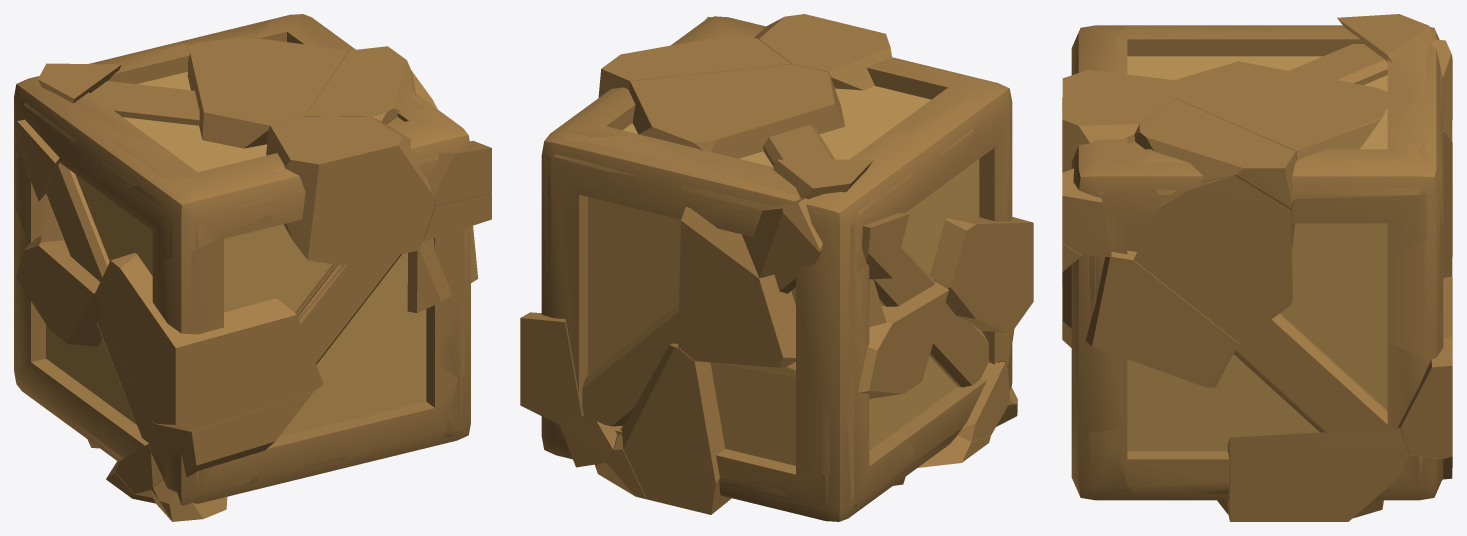
File: CrateMesh.glb
The picture shows the model from 3 angles, left to right: view 1: azimuth 30°, elevation 25°; view 2: azimuth 150°, elevation 25°; view 3: azimuth 270°, elevation 25°; orthographic projection. The views are drawn at different scales.
Parts seen in each view (by area): view 1: origin, Cube_Crate_cell.009, Cube_Crate_cell.069, Cube_Crate_cell.032, Cube_Crate_cell.025, Cube_Crate_cell.068, Cube_Crate_cell.061, Cube_Crate_cell.034, Cube_Crate_cell.085, Cube_Crate_cell.060, Cube_Crate_cell, Cube_Crate_cell.062 (+16 smaller); view 2: origin, Cube_Crate_cell.009, Cube_Crate_cell.034, Cube_Crate_cell.025, Cube_Crate_cell.005, Cube_Crate_cell.086, Cube_Crate_cell.070, Cube_Crate_cell.032, Cube_Crate_cell.041, Cube_Crate_cell.085, Cube_Crate_cell.069, Cube_Crate_cell.060 (+22 smaller); view 3: origin, Cube_Crate_cell.009, Cube_Crate_cell.071, Cube_Crate_cell.045, Cube_Crate_cell.020, Cube_Crate_cell.034, Cube_Crate_cell.025, Cube_Crate_cell.060, Cube_Crate_cell.088, Cube_Crate_cell.053, Cube_Crate_cell.069, Cube_Crate_cell.059 (+13 smaller).
Boxes of the visible parts, x1,y1,x2,y2 form: origin: (14,14,467,502); Cube_Crate_cell.009: (16,36,470,489); Cube_Crate_cell.069: (266,116,434,364); Cube_Crate_cell.032: (95,253,323,431); Cube_Crate_cell.025: (30,14,451,505); Cube_Crate_cell.068: (315,333,458,458); Cube_Crate_cell.061: (139,214,283,333); Cube_Crate_cell.034: (16,14,470,503); Cube_Crate_cell.085: (16,163,109,346); Cube_Crate_cell.060: (102,46,414,125); Cube_Crate_cell: (148,254,401,477); Cube_Crate_cell.062: (47,163,150,442); origin: (541,16,1012,521); Cube_Crate_cell.009: (548,16,1010,503); Cube_Crate_cell.034: (548,16,990,510); Cube_Crate_cell.025: (552,17,1011,513); Cube_Crate_cell.005: (678,207,795,367); Cube_Crate_cell.086: (621,343,731,514); Cube_Crate_cell.070: (711,362,852,488); Cube_Crate_cell.032: (930,217,1033,333); Cube_Crate_cell.041: (559,269,795,467); Cube_Crate_cell.085: (719,247,961,398); Cube_Crate_cell.069: (754,14,892,90); Cube_Crate_cell.060: (598,35,834,166); origin: (1072,25,1441,497); Cube_Crate_cell.009: (1076,56,1443,459); Cube_Crate_cell.071: (1127,223,1409,521); Cube_Crate_cell.045: (1133,175,1292,343); Cube_Crate_cell.020: (1062,250,1238,387); Cube_Crate_cell.034: (1072,39,1443,500); Cube_Crate_cell.025: (1088,26,1419,490); Cube_Crate_cell.060: (1134,81,1364,250); Cube_Crate_cell.088: (1317,223,1442,358); Cube_Crate_cell.053: (1292,184,1442,270); Cube_Crate_cell.069: (1062,70,1175,172); Cube_Crate_cell.059: (1108,391,1228,493).
Bounding box in the file's own units: 2.12 × 2.12 × 2.12.
